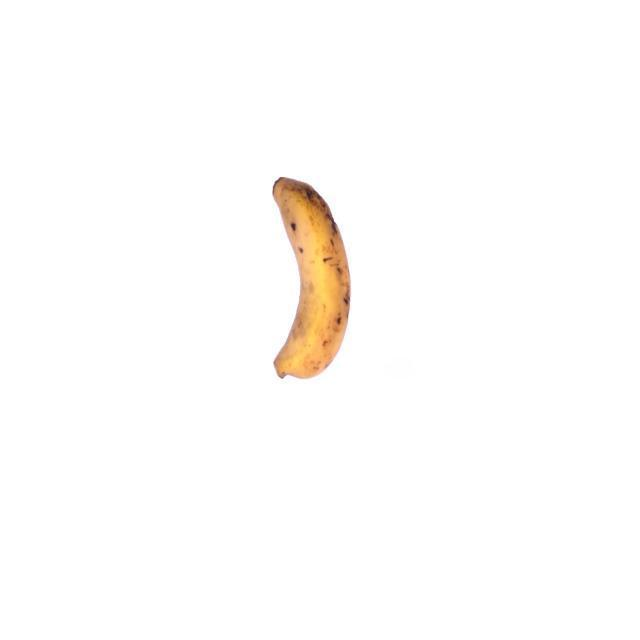Banana: (269, 174, 354, 384)
